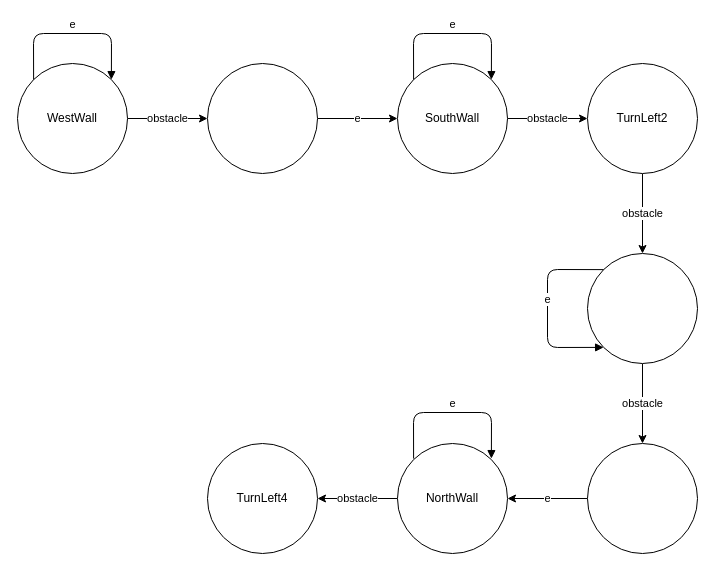
This 715x571 diagram has some shape labels left out. The centre of each missing label's shape, as x and y in pixels:
"EastWall" belongs at point (642, 308).
"TurnLeft1" belongs at point (262, 118).
"TurnLeft3" belongs at point (642, 498).
